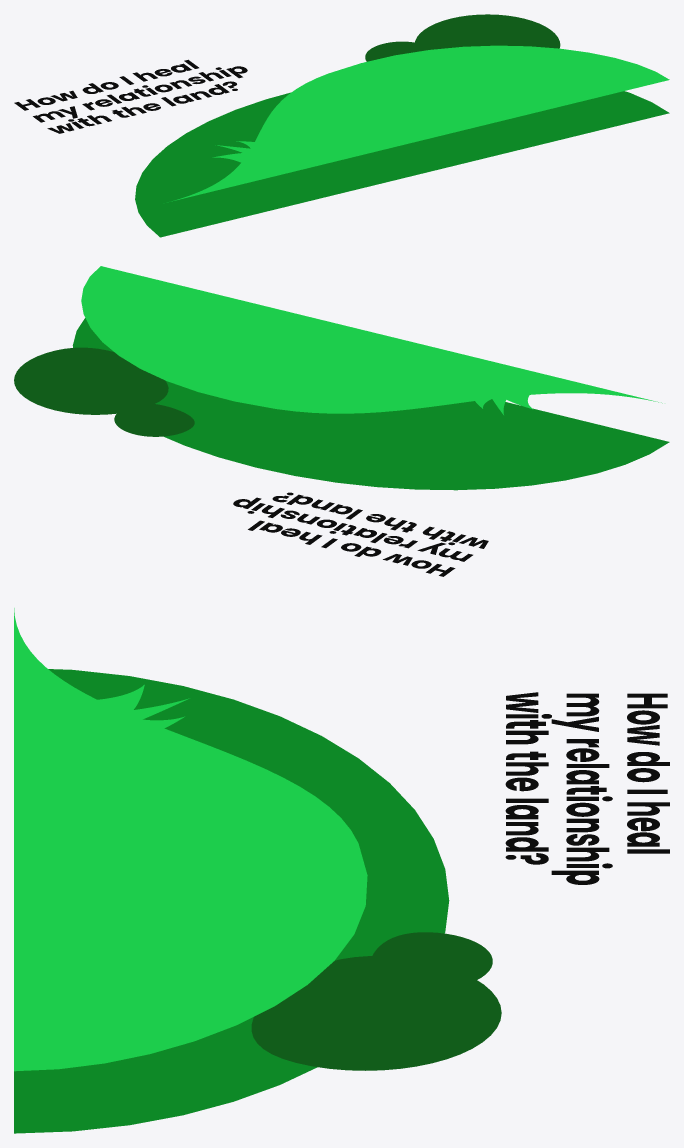
The model's file is TestA.gltf.
The picture shows the model from 3 angles, top to bottom: view 1: azimuth 30°, elevation 25°; view 2: azimuth 150°, elevation 25°; view 3: azimuth 270°, elevation 25°; orthographic projection. The views are drawn at different scales.
Visible parts, largest first — view 1: Curve.039, Curve.036, Curve.037, Copy, Curve.038; view 2: Curve.039, Curve.036, Curve.037, Copy, Curve.038; view 3: Curve.039, Curve.036, Curve.037, Copy, Curve.038.
Part boxes in pixels (bbox=[...]): Curve.039: bbox=[167, 45, 669, 202]; Curve.036: bbox=[135, 91, 669, 237]; Curve.037: bbox=[414, 14, 560, 51]; Copy: bbox=[14, 59, 247, 133]; Curve.038: bbox=[365, 41, 415, 61]; Curve.039: bbox=[81, 266, 662, 414]; Curve.036: bbox=[72, 318, 669, 490]; Curve.037: bbox=[14, 347, 168, 414]; Copy: bbox=[233, 492, 488, 576]; Curve.038: bbox=[114, 404, 194, 436]; Curve.039: bbox=[14, 608, 367, 1071]; Curve.036: bbox=[14, 669, 449, 1133]; Curve.037: bbox=[251, 956, 501, 1070]; Copy: bbox=[505, 692, 669, 884]; Curve.038: bbox=[372, 932, 492, 979].
Bounding box in the file's own units: 4.9 × 0.3055 × 2.91.
